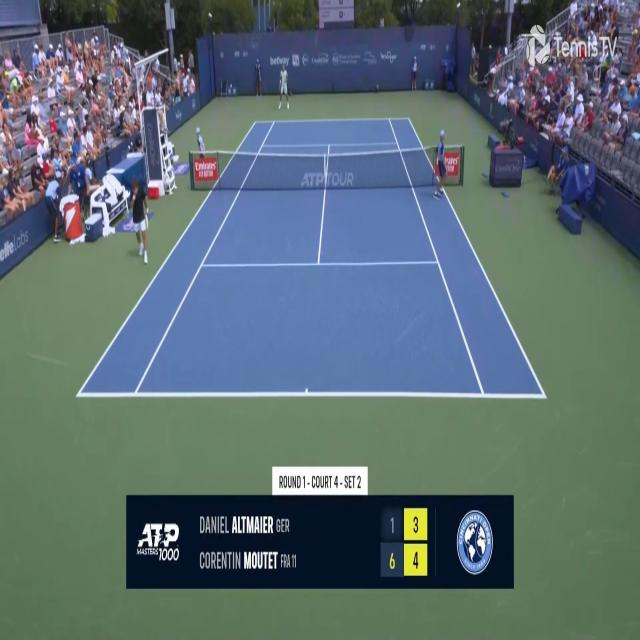tennis-player: (128, 173, 153, 267), (277, 61, 292, 110)
